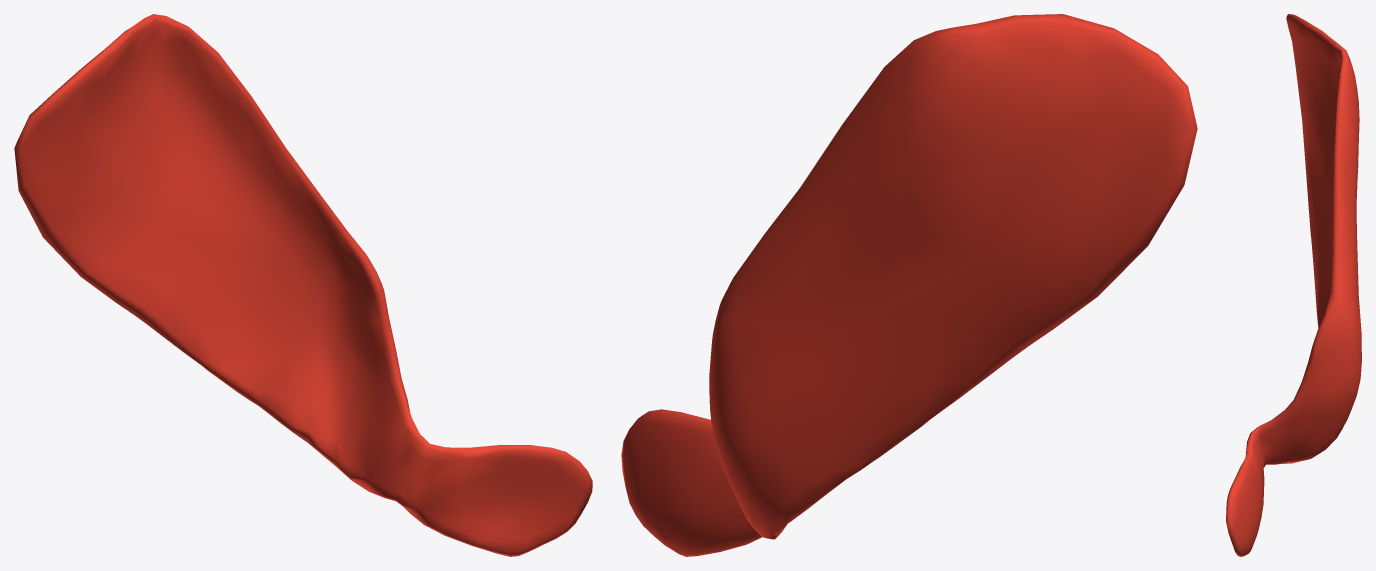
Rendered from Sternohyoid_muscle-Sternoclavicular_insertion.r_Generated_Mesh_.glb.
The picture shows the model from 3 angles, left to right: view 1: azimuth 30°, elevation 25°; view 2: azimuth 150°, elevation 25°; view 3: azimuth 270°, elevation 25°; orthographic projection. The views are drawn at different scales.
Parts seen in each view (by area): view 1: Sternohyoid_muscle-Sternoclavicular_insertion.r_Generated_Me; view 2: Sternohyoid_muscle-Sternoclavicular_insertion.r_Generated_Me; view 3: Sternohyoid_muscle-Sternoclavicular_insertion.r_Generated_Me.
Boxes of the visible parts, x1,y1,x2,y2 form: Sternohyoid_muscle-Sternoclavicular_insertion.r_Generated_Me: (14, 14, 592, 556); Sternohyoid_muscle-Sternoclavicular_insertion.r_Generated_Me: (621, 14, 1197, 556); Sternohyoid_muscle-Sternoclavicular_insertion.r_Generated_Me: (1226, 14, 1361, 556).
Size of the model in its own units: 0.0227 by 0.0234 by 0.00706.
